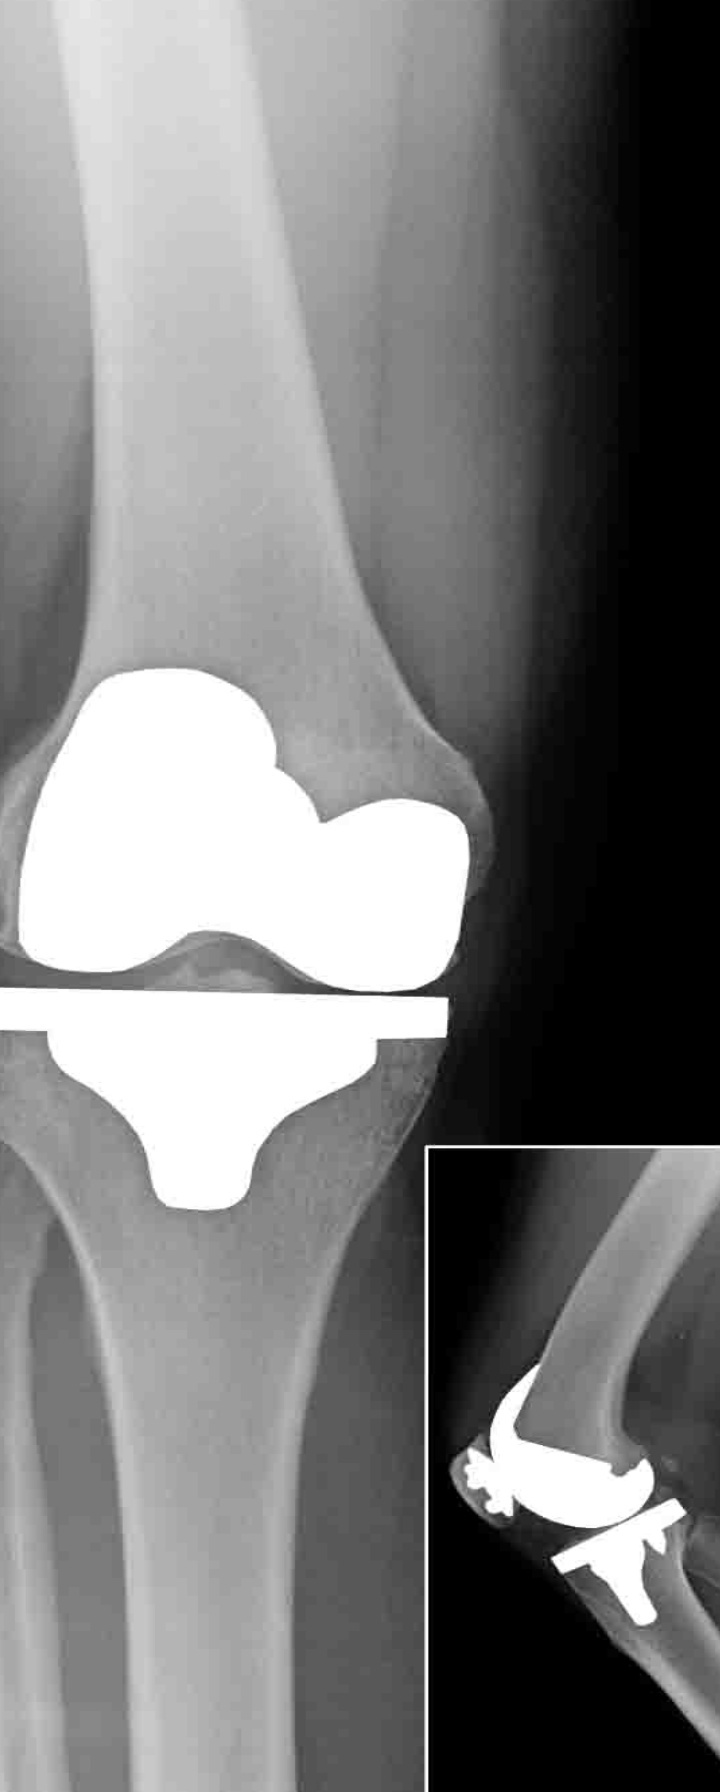Knee-TriathlonTritanium-Stryker: (1, 655, 527, 1216), (451, 1342, 694, 1638)
